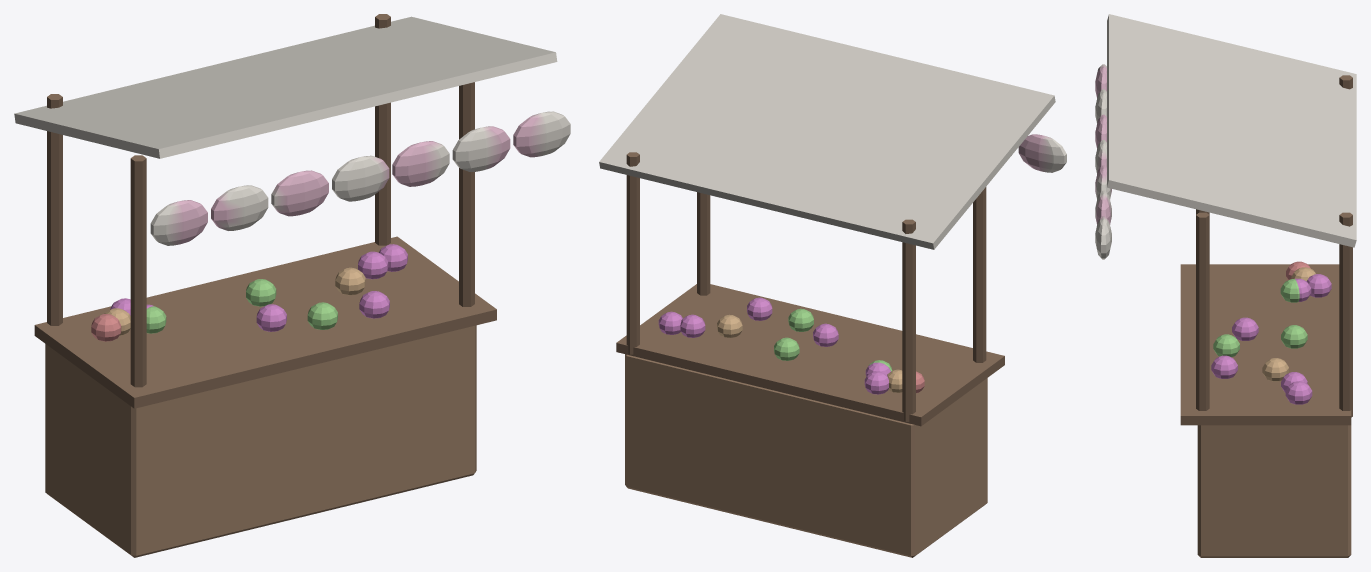
Rendered from MarketStall.fbx.
3 views of the same model, side by side, from view 1: azimuth 30°, elevation 25°; view 2: azimuth 150°, elevation 25°; view 3: azimuth 270°, elevation 25° (orthographic). The views are drawn at different scales.
Visible parts, largest first — view 1: Prop_MarketStall; view 2: Prop_MarketStall; view 3: Prop_MarketStall.
Boxes of the visible parts, x1,y1,x2,y2 form: Prop_MarketStall: (14,14,570,557); Prop_MarketStall: (599,14,1066,557); Prop_MarketStall: (1095,14,1356,557).
Size of the model in its own units: 2.42 by 2.52 by 1.53.
